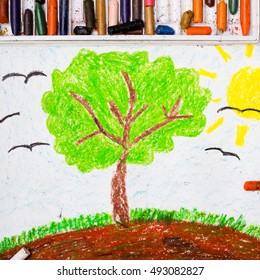sun: (199, 45, 260, 148)
tree: (46, 47, 213, 229)
